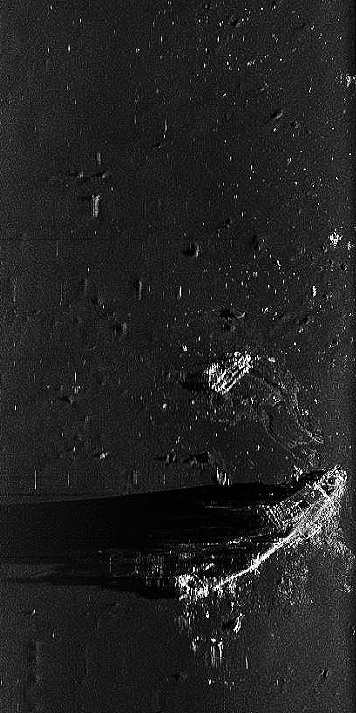ship: (179, 465, 347, 606)
